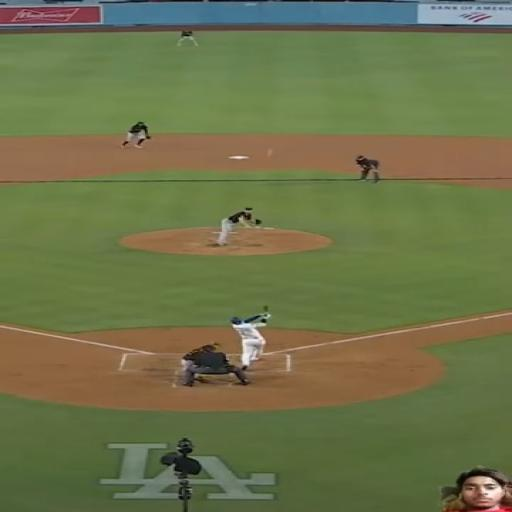bat: (264, 306, 268, 312)
